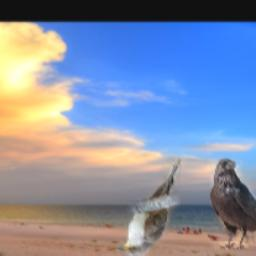Crow: (210, 158, 256, 249)
Cuckoo: (116, 159, 181, 256)
